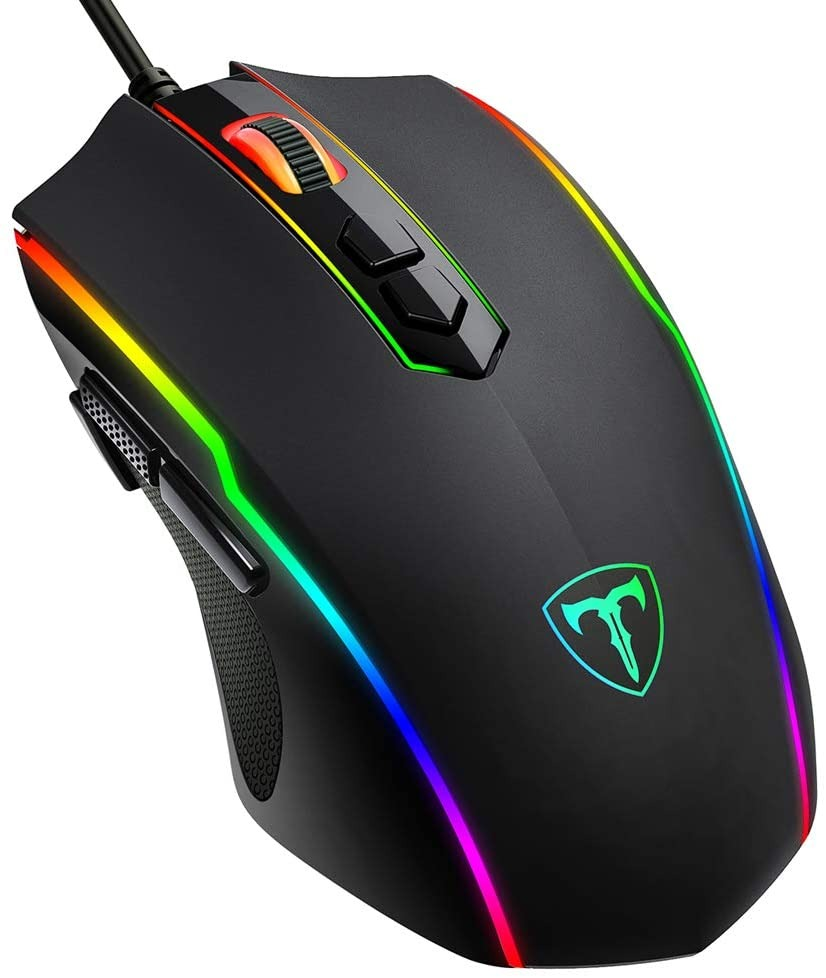mouse: (9, 64, 814, 961)
